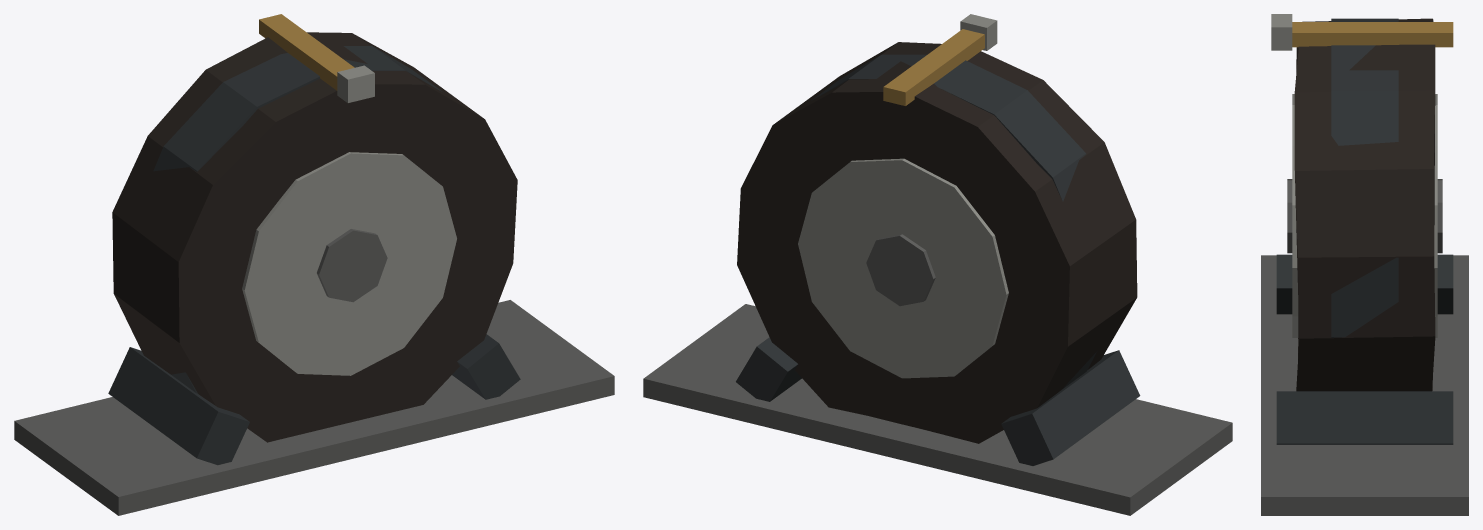
File: spare_tire.glb
3 renders of one model, left to right at view 1: azimuth 30°, elevation 25°; view 2: azimuth 150°, elevation 25°; view 3: azimuth 270°, elevation 25°, orthographic.
Parts seen in each view (by area): view 1: spare_tire; view 2: spare_tire; view 3: spare_tire.
Part boxes in pixels (box(x1,y1,x2,y2)): spare_tire: box(14, 14, 614, 515); spare_tire: box(643, 14, 1232, 515); spare_tire: box(1261, 14, 1468, 515).
Size of the model in its own units: 1.1 by 0.795 by 0.4.
